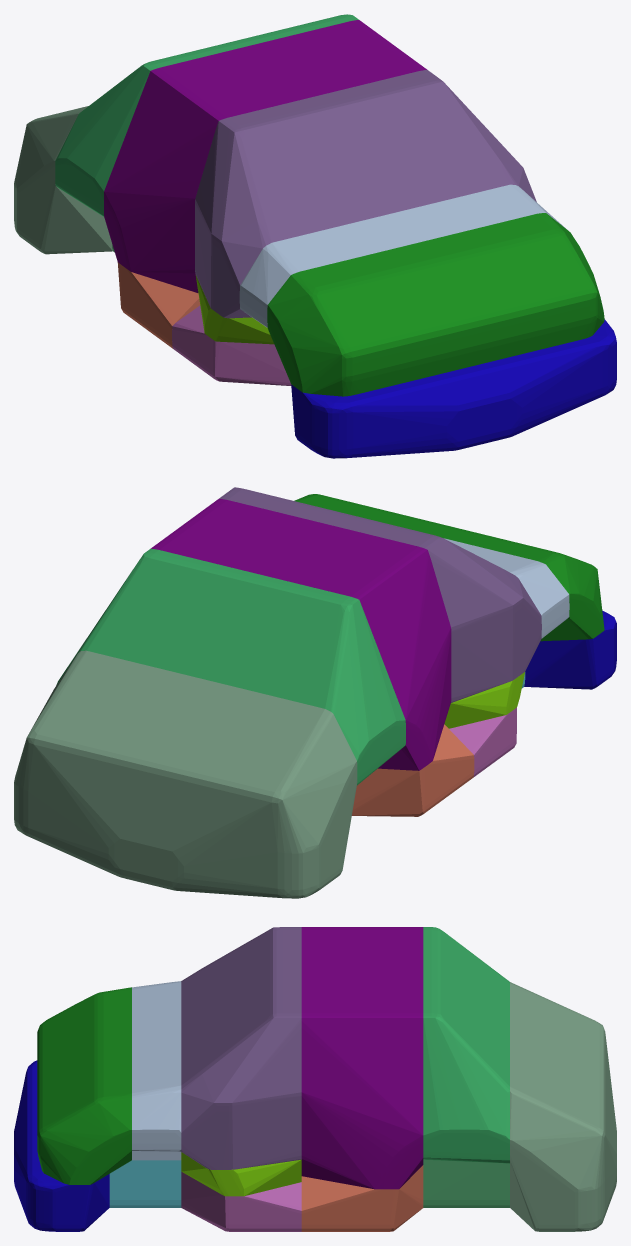
Rendered from sedan-sports-body-output.obj.
3 renders of one model, top to bottom at view 1: azimuth 30°, elevation 25°; view 2: azimuth 150°, elevation 25°; view 3: azimuth 270°, elevation 25°, orthographic. The views are drawn at different scales.
Parts seen in each view (by area): view 1: geometry_8, geometry_1, geometry_11, geometry_5, geometry_6, geometry_10, geometry_0, geometry_7, geometry_9, geometry_4; view 2: geometry_0, geometry_10, geometry_11, geometry_1, geometry_8, geometry_9, geometry_5, geometry_6, geometry_7, geometry_4; view 3: geometry_11, geometry_1, geometry_0, geometry_10, geometry_8, geometry_6, geometry_5, geometry_9, geometry_7, geometry_3, geometry_2, geometry_4.
Part boxes in pixels (left/top/right/bottom): geometry_8: left=267, top=213, right=604, bottom=396; geometry_1: left=195, top=70, right=536, bottom=318; geometry_11: left=104, top=20, right=427, bottom=292; geometry_5: left=291, top=319, right=616, bottom=458; geometry_6: left=239, top=184, right=565, bottom=327; geometry_10: left=55, top=14, right=358, bottom=216; geometry_0: left=14, top=106, right=112, bottom=254; geometry_7: left=172, top=305, right=291, bottom=385; geometry_9: left=117, top=262, right=200, bottom=348; geometry_4: left=195, top=275, right=273, bottom=344; geometry_0: left=14, top=650, right=357, bottom=898; geometry_10: left=56, top=548, right=405, bottom=785; geometry_11: left=151, top=499, right=451, bottom=770; geometry_1: left=219, top=487, right=541, bottom=702; geometry_8: left=294, top=494, right=604, bottom=641; geometry_9: left=352, top=724, right=474, bottom=816; geometry_5: left=524, top=610, right=616, bottom=689; geometry_6: left=444, top=538, right=569, bottom=638; geometry_7: left=449, top=707, right=516, bottom=777; geometry_4: left=444, top=672, right=524, bottom=728; geometry_11: left=301, top=927, right=423, bottom=1189; geometry_1: left=181, top=927, right=301, bottom=1169; geometry_0: left=510, top=982, right=616, bottom=1231; geometry_10: left=423, top=927, right=509, bottom=1163; geometry_8: left=37, top=987, right=131, bottom=1184; geometry_6: left=132, top=981, right=181, bottom=1160; geometry_5: left=14, top=1060, right=109, bottom=1231; geometry_9: left=301, top=1165, right=423, bottom=1231; geometry_7: left=181, top=1172, right=301, bottom=1231; geometry_3: left=423, top=1159, right=509, bottom=1207; geometry_2: left=109, top=1160, right=181, bottom=1207; geometry_4: left=181, top=1152, right=301, bottom=1196.
Bounding box in the file's own units: 1.33 × 0.978 × 2.58.
